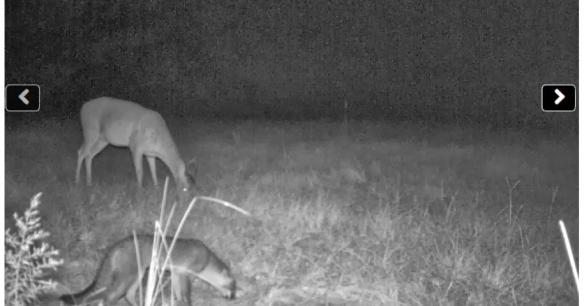Jaguarundi: (58, 228, 242, 306)
